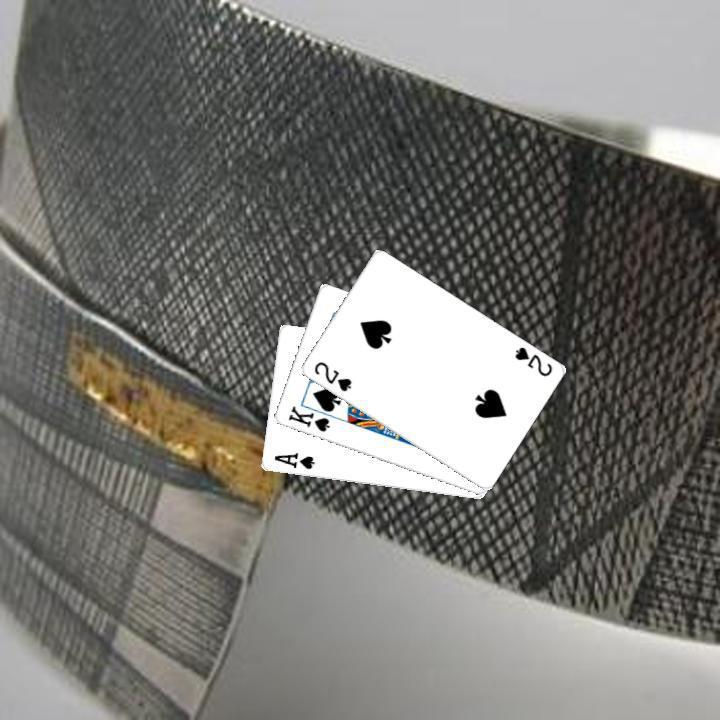2: (309, 357, 353, 394), (510, 342, 554, 379)
A: (269, 448, 316, 471)
K: (283, 402, 332, 434)
